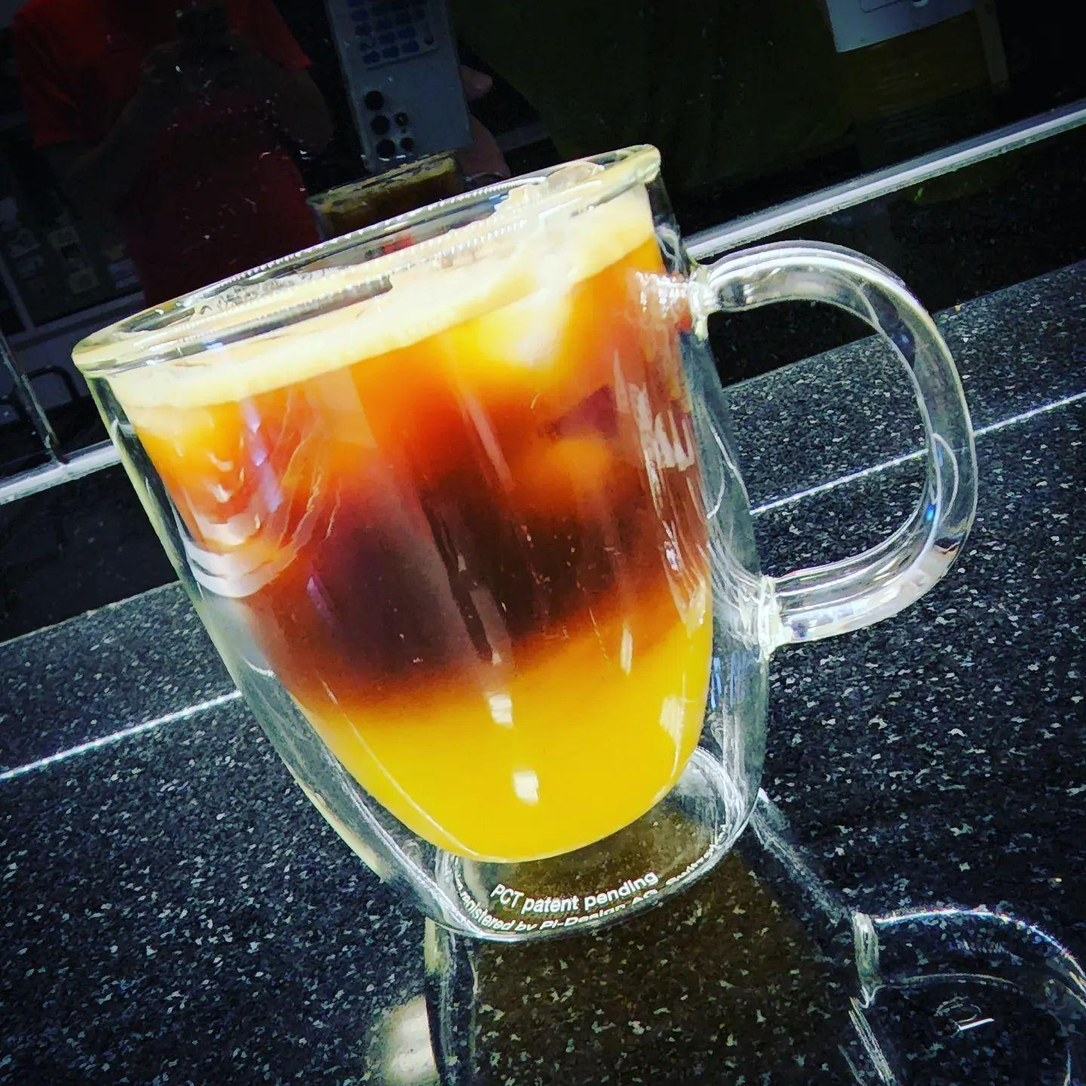glass-mug: (72, 139, 996, 950)
